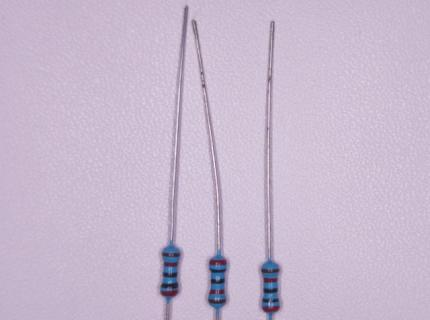Black band: (160, 282, 178, 289), (208, 298, 225, 304), (263, 298, 279, 303), (163, 272, 178, 277), (261, 269, 279, 273), (211, 278, 225, 283), (264, 288, 278, 293), (211, 269, 227, 273), (162, 253, 180, 256)
Red band: (161, 290, 178, 296), (263, 306, 280, 312), (210, 259, 226, 265), (208, 289, 224, 294), (164, 262, 178, 267), (264, 278, 278, 282)
